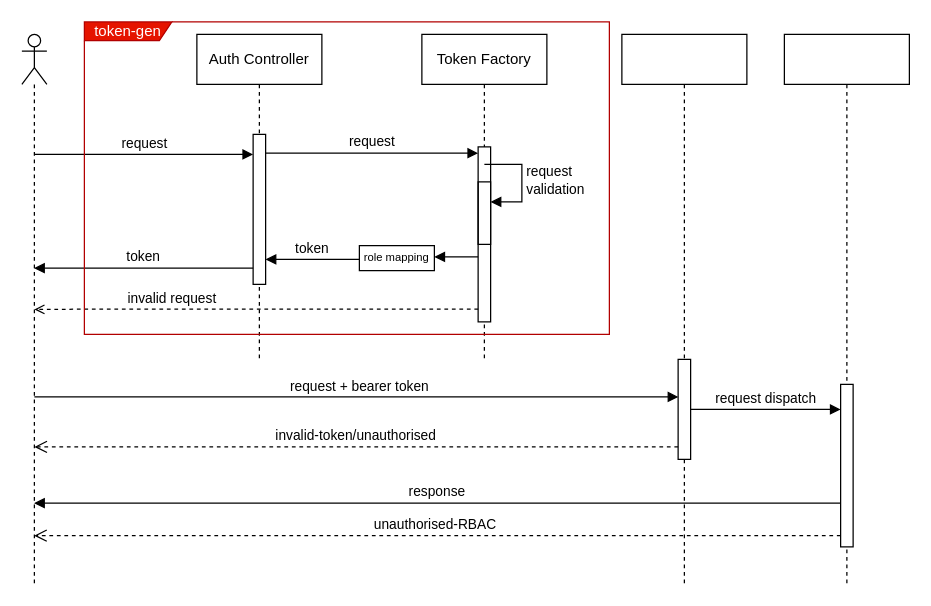
Image size: 931x606. Some labels were removed from this diagram. Here are the shapes that lost their labels. From the top down, the box of each, then its label:
(621, 33, 747, 584): Token Validation Handler
(783, 33, 909, 584): Action Controller
